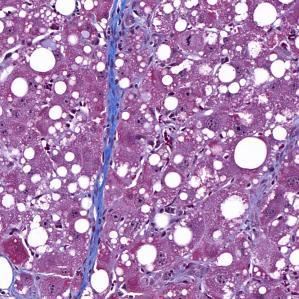fibrosis: (81, 169, 116, 271), (98, 0, 131, 106)
